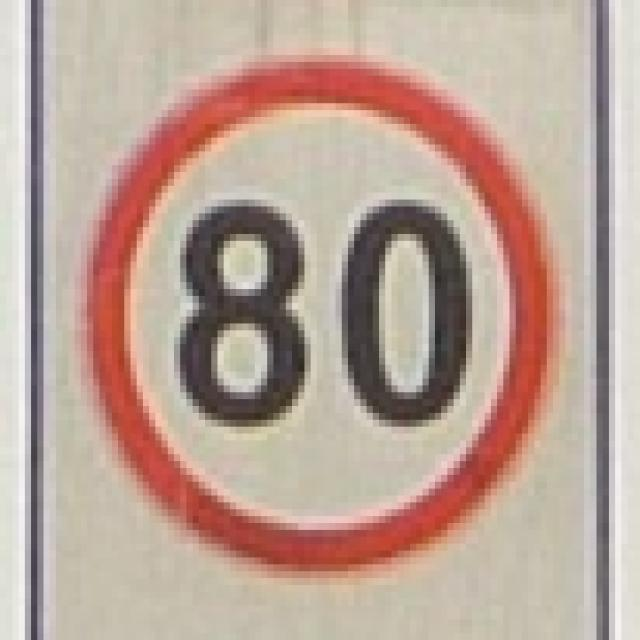Speed Limit -80-: (173, 200, 474, 430)
